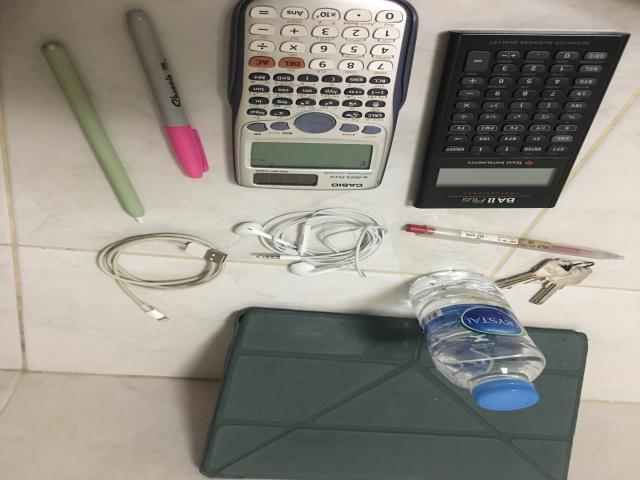Keys: (495, 259, 593, 305)
Pen: (127, 10, 208, 178), (405, 224, 623, 260)
bottle: (410, 270, 545, 411)
wire: (97, 233, 227, 323), (235, 208, 386, 278)
